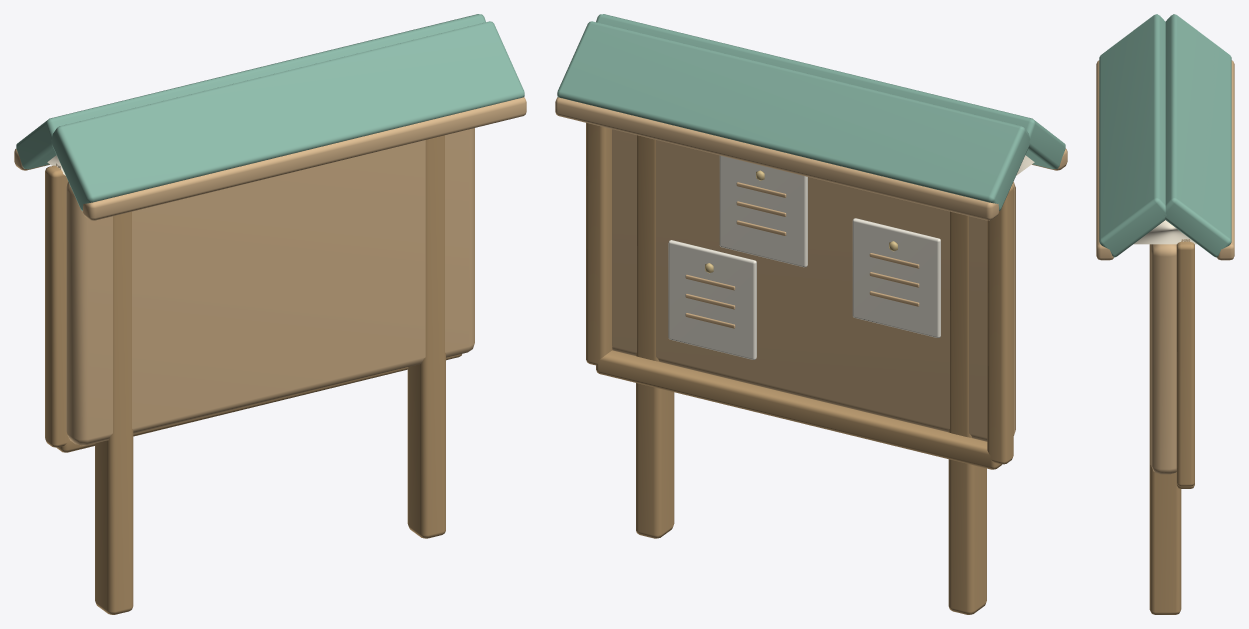
File: board.glb
The picture shows the model from 3 angles, left to right: view 1: azimuth 30°, elevation 25°; view 2: azimuth 150°, elevation 25°; view 3: azimuth 270°, elevation 25°; orthographic projection. The views are drawn at different scales.
Bounding box in the file's own units: 2.4 × 2.62 × 0.7499.
